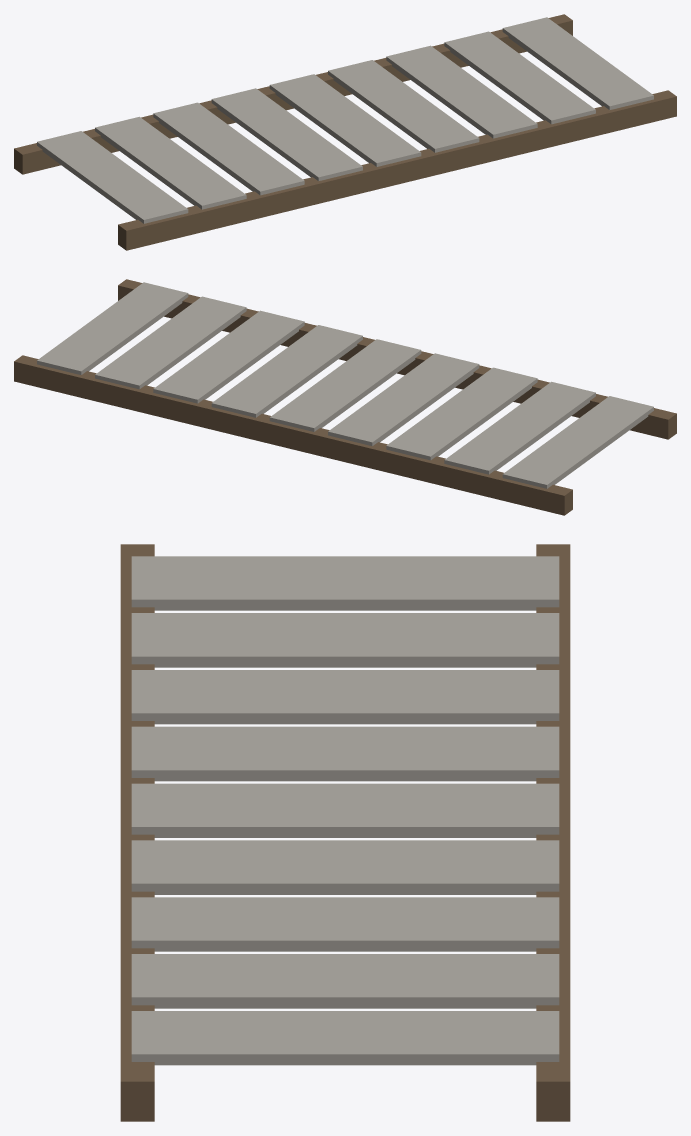
File: LL_Dock_5m.fbx
3 views of the same model, one above another, from view 1: azimuth 30°, elevation 25°; view 2: azimuth 150°, elevation 25°; view 3: azimuth 270°, elevation 25° (orthographic). The views are drawn at different scales.
Parts seen in each view (by area): view 1: LL_Dock_Beam_N, LL_Dock_Plank_04, LL_Dock_Plank_07, LL_Dock_Plank_03, LL_Dock_Plank_06, LL_Dock_Plank_01, LL_Dock_Plank_02, LL_Dock_Plank_05, LL_Dock_Plank_08, LL_Dock_Plank_00, LL_Dock_Beam_S; view 2: LL_Dock_Beam_S, LL_Dock_Plank_04, LL_Dock_Plank_07, LL_Dock_Plank_03, LL_Dock_Plank_06, LL_Dock_Plank_01, LL_Dock_Plank_02, LL_Dock_Plank_05, LL_Dock_Plank_08, LL_Dock_Plank_00, LL_Dock_Beam_N; view 3: LL_Dock_Plank_03, LL_Dock_Plank_05, LL_Dock_Plank_00, LL_Dock_Plank_01, LL_Dock_Plank_04, LL_Dock_Plank_06, LL_Dock_Plank_07, LL_Dock_Plank_02, LL_Dock_Plank_08, LL_Dock_Beam_N, LL_Dock_Beam_S.
Boxes of the visible parts, x1,y1,x2,y2 form: LL_Dock_Beam_N: (118, 90, 676, 250); LL_Dock_Plank_04: (269, 74, 421, 166); LL_Dock_Plank_07: (444, 31, 595, 124); LL_Dock_Plank_03: (211, 88, 362, 181); LL_Dock_Plank_06: (386, 45, 537, 138); LL_Dock_Plank_01: (95, 116, 246, 209); LL_Dock_Plank_02: (153, 102, 304, 195); LL_Dock_Plank_05: (328, 60, 479, 152); LL_Dock_Plank_08: (502, 17, 653, 109); LL_Dock_Plank_00: (37, 131, 188, 223); LL_Dock_Beam_S: (14, 14, 572, 174); LL_Dock_Beam_S: (14, 355, 572, 515); LL_Dock_Plank_04: (269, 339, 421, 431); LL_Dock_Plank_07: (95, 296, 246, 389); LL_Dock_Plank_03: (328, 353, 479, 446); LL_Dock_Plank_06: (153, 310, 304, 403); LL_Dock_Plank_01: (444, 381, 595, 474); LL_Dock_Plank_02: (386, 367, 537, 460); LL_Dock_Plank_05: (211, 325, 362, 417); LL_Dock_Plank_08: (37, 282, 188, 374); LL_Dock_Plank_00: (502, 396, 653, 488); LL_Dock_Beam_N: (118, 279, 676, 439); LL_Dock_Plank_03: (131, 726, 559, 781); LL_Dock_Plank_05: (131, 840, 559, 894); LL_Dock_Plank_00: (131, 556, 559, 610); LL_Dock_Plank_01: (131, 613, 559, 667); LL_Dock_Plank_04: (131, 783, 559, 837); LL_Dock_Plank_06: (131, 897, 559, 951); LL_Dock_Plank_07: (131, 954, 559, 1008); LL_Dock_Plank_02: (131, 670, 559, 724); LL_Dock_Plank_08: (131, 1011, 559, 1065); LL_Dock_Beam_N: (120, 544, 154, 1121); LL_Dock_Beam_S: (536, 544, 570, 1121).
Size of the model in its own units: 5.2 by 0.215 by 1.84.
